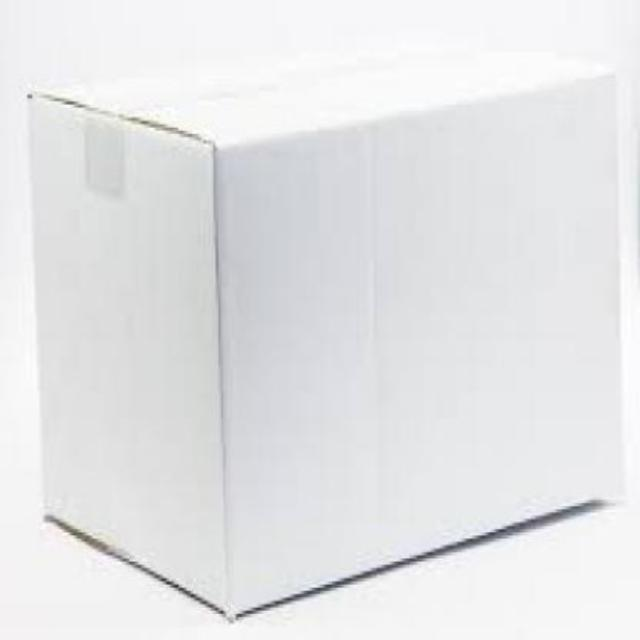cardboard_box: (19, 60, 632, 632)
